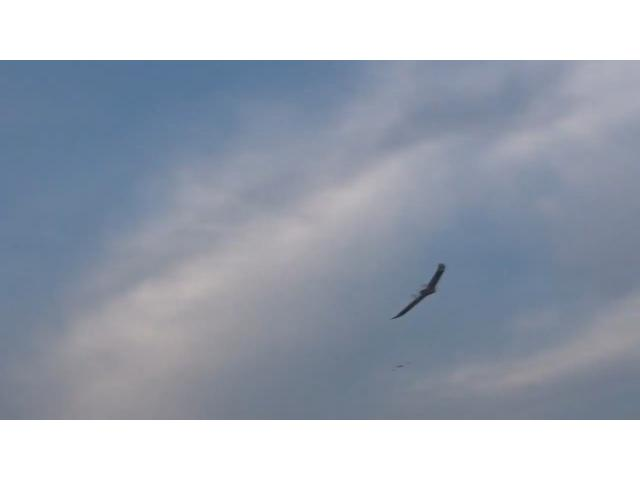Anti-Drone: (389, 264, 446, 320)
